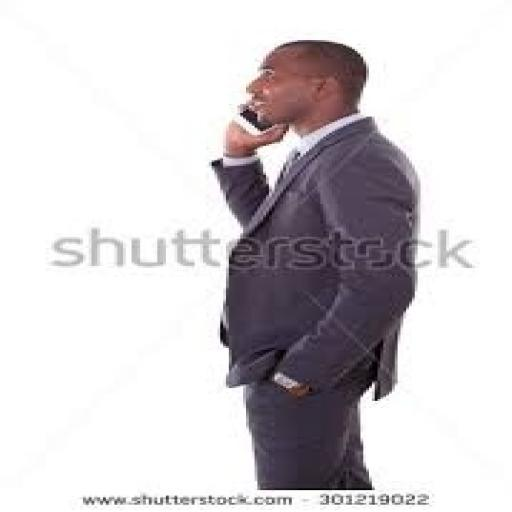calling: (206, 38, 423, 490)
